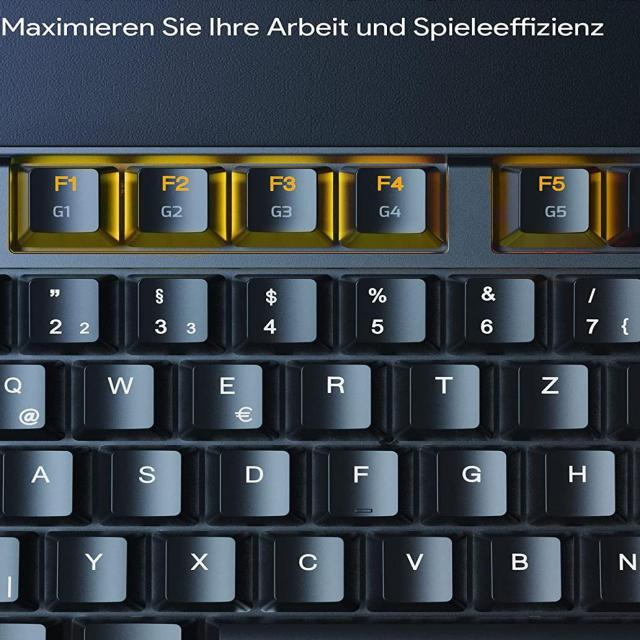1: (0, 274, 29, 343)
2: (21, 273, 102, 347)
3: (131, 273, 211, 345)
4: (239, 273, 319, 345)
5: (346, 272, 429, 346)
6: (456, 273, 538, 348)
7: (563, 272, 640, 346)
a: (0, 444, 74, 517)
alt-left: (80, 617, 184, 640)
b: (485, 530, 565, 602)
c: (269, 529, 348, 603)
d: (214, 443, 292, 517)
e: (187, 359, 266, 429)
f: (322, 444, 399, 517)
g: (431, 444, 510, 516)
h: (541, 444, 616, 516)
less: (0, 530, 41, 605)
n: (593, 530, 640, 602)
q: (0, 359, 49, 431)
r: (296, 358, 374, 429)
s: (106, 444, 184, 516)
space: (203, 618, 639, 640)
t: (406, 358, 481, 428)
u: (624, 360, 640, 430)
v: (376, 530, 455, 603)
w: (79, 357, 156, 429)
x: (159, 531, 239, 603)
y: (49, 530, 130, 603)
z: (513, 359, 591, 429)
